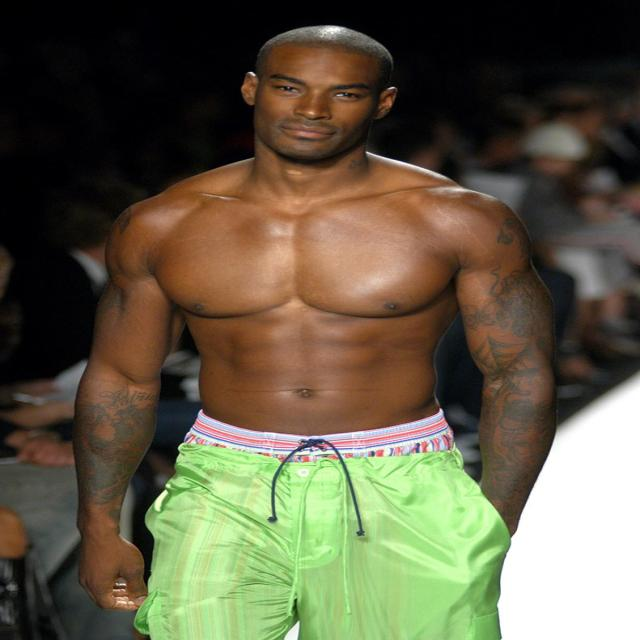human: (71, 21, 564, 640)
